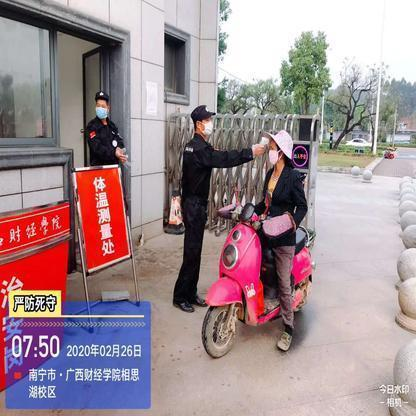target: (201, 129, 316, 360)
